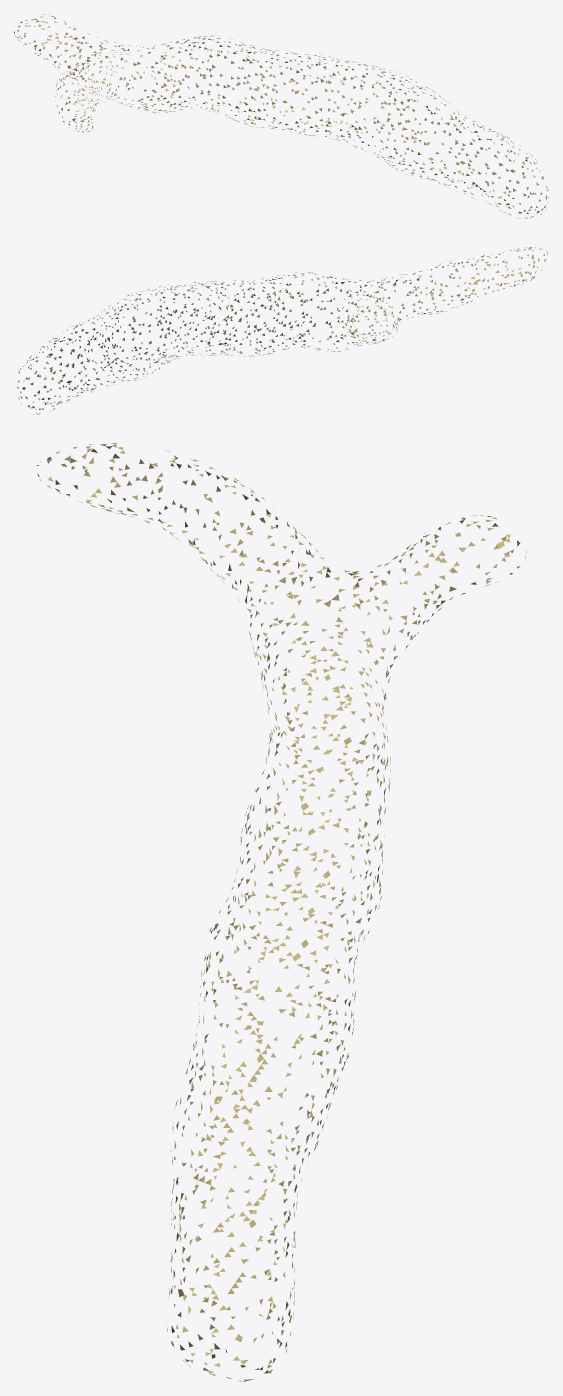
Rendered from morph_008.glb.
3 views of the same model, one above another, from view 1: azimuth 30°, elevation 25°; view 2: azimuth 150°, elevation 25°; view 3: azimuth 270°, elevation 25° (orthographic). The views are drawn at different scales.
Size of the model in its own units: 112 by 54.79 by 48.98.
